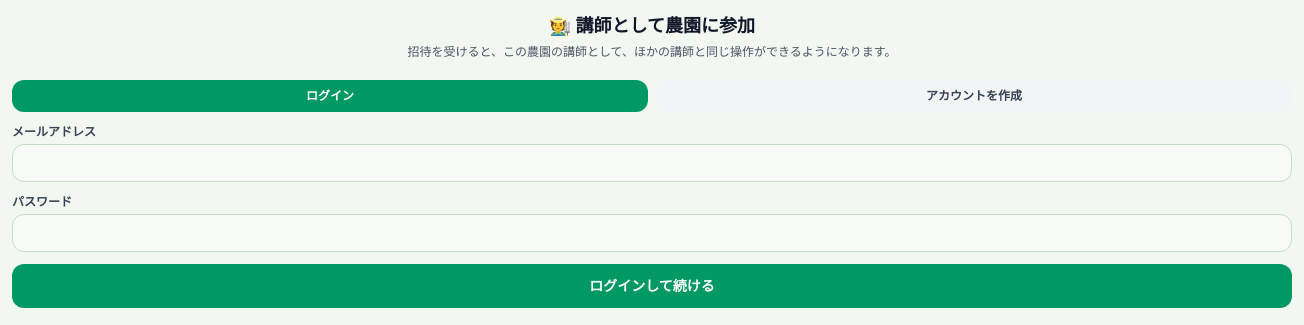
Test case: TeacherInviteAccept - 講師の招待を受ける › 未ログインならログインしてから参加ボタンを表示する
In the field labelled "メールアドレス": (652, 163) [12,144,1292,182], type "x@example.com"
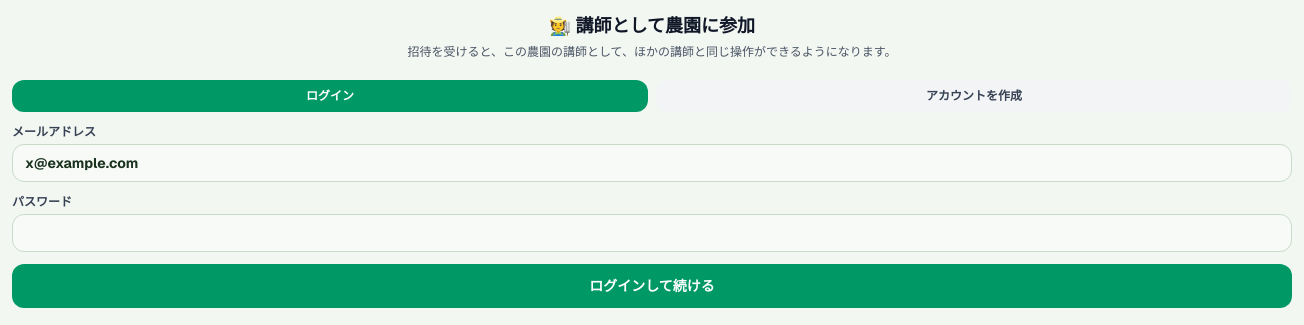
In the password field labelled "パスワード": (652, 233) [12,214,1292,252], type "secret"
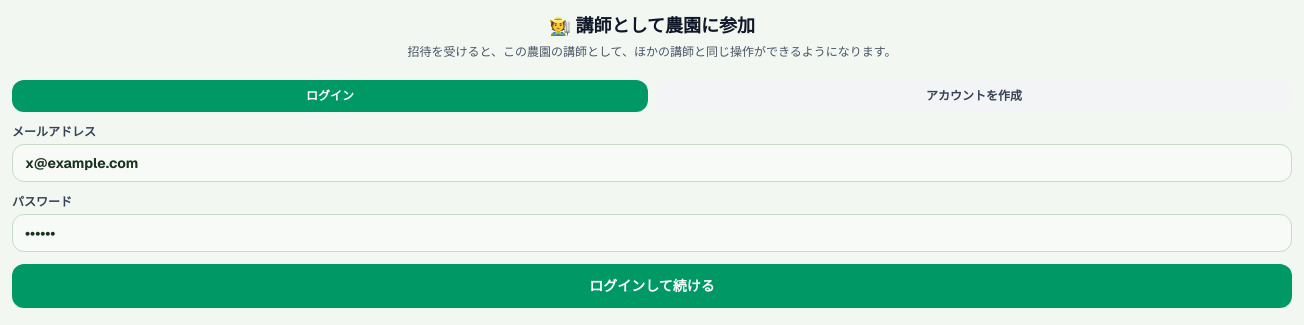
Click the button "ログインして続ける": (652, 286) [12,264,1292,308]
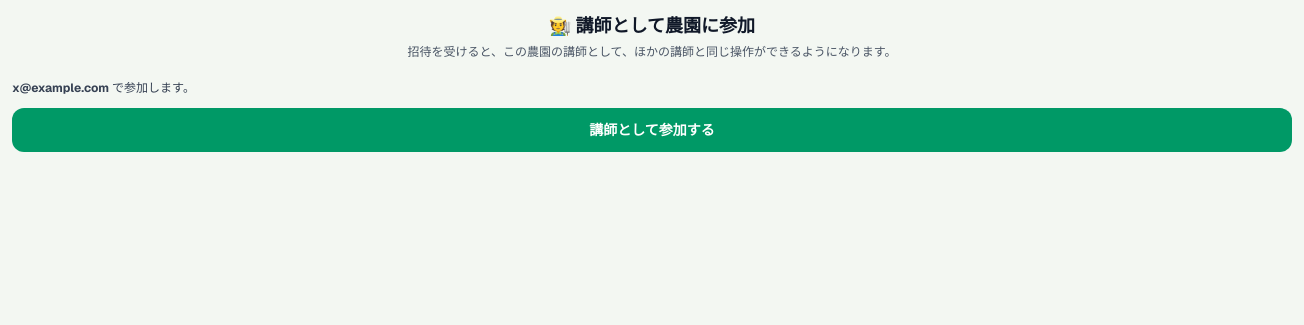
Result: the button "講師として参加する" is shown at [12,108,1292,152]
